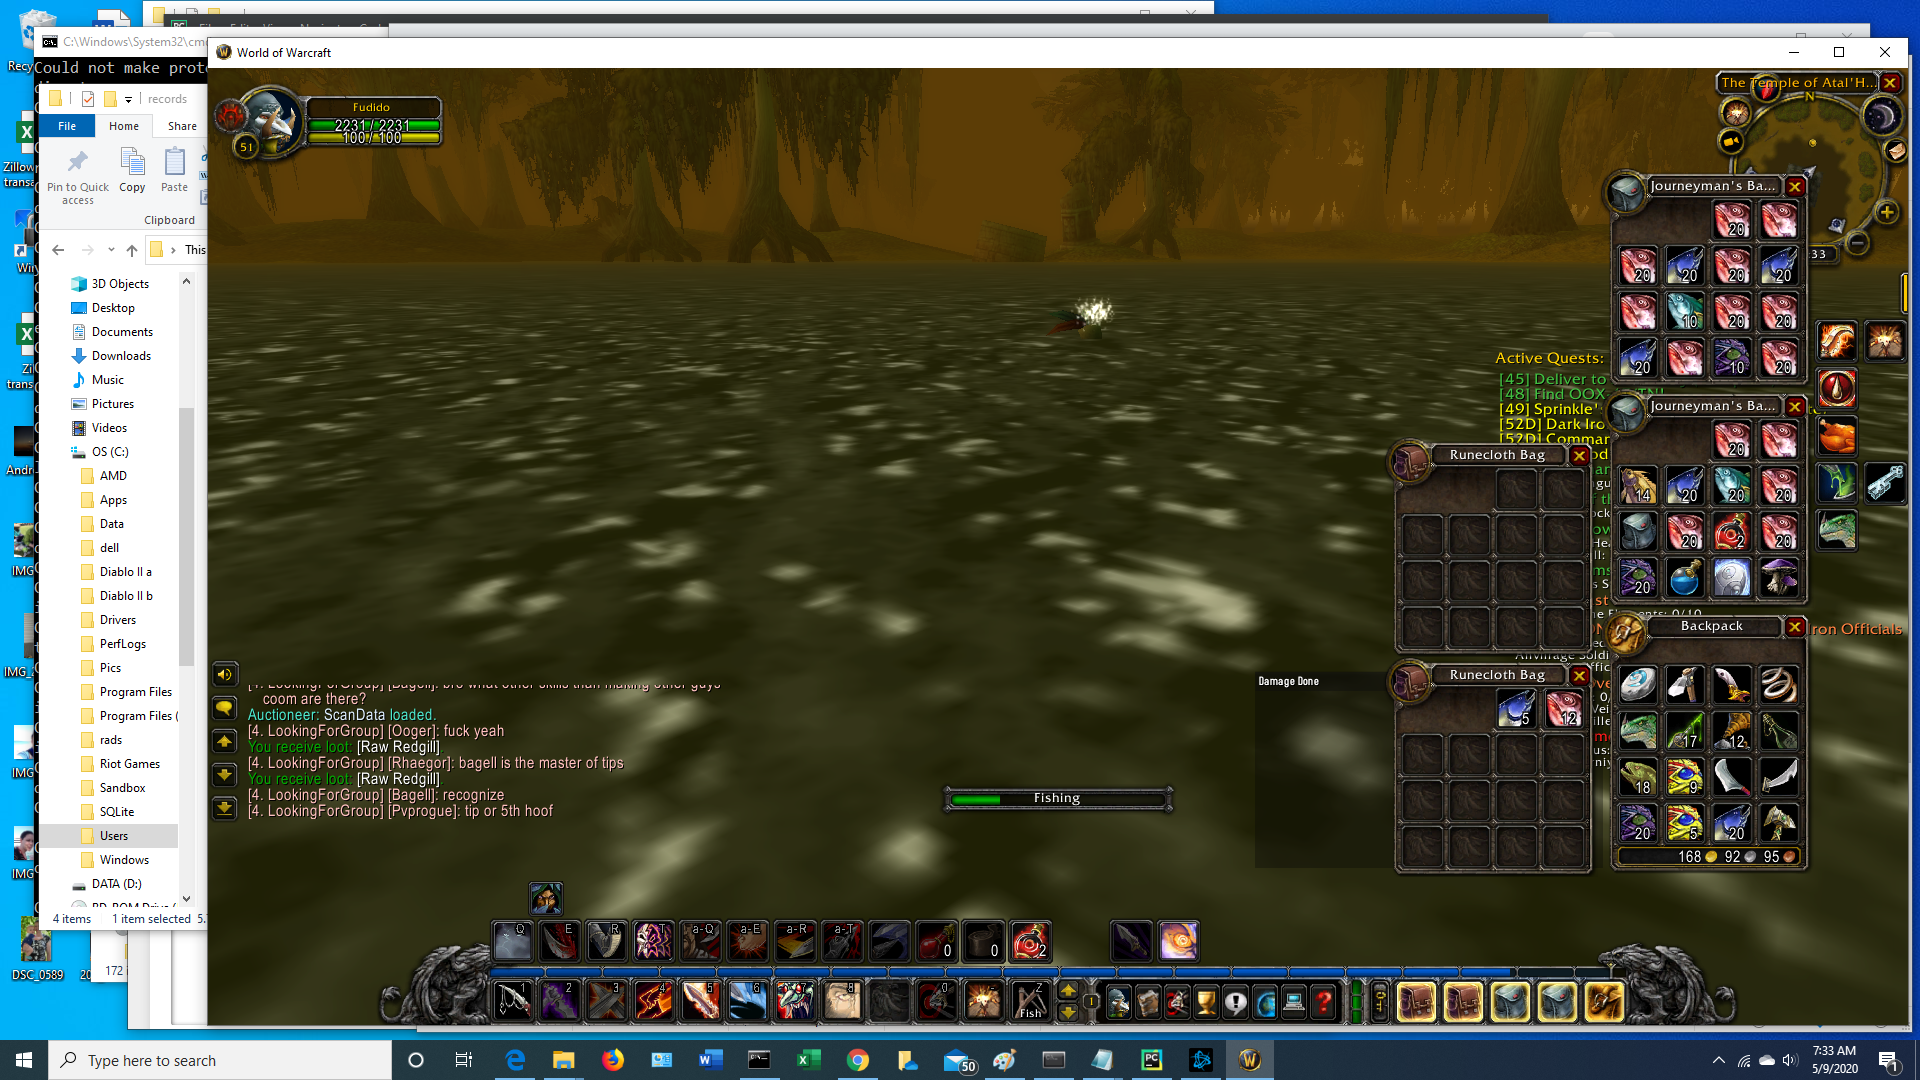bobber: (1050, 305, 1112, 348)
